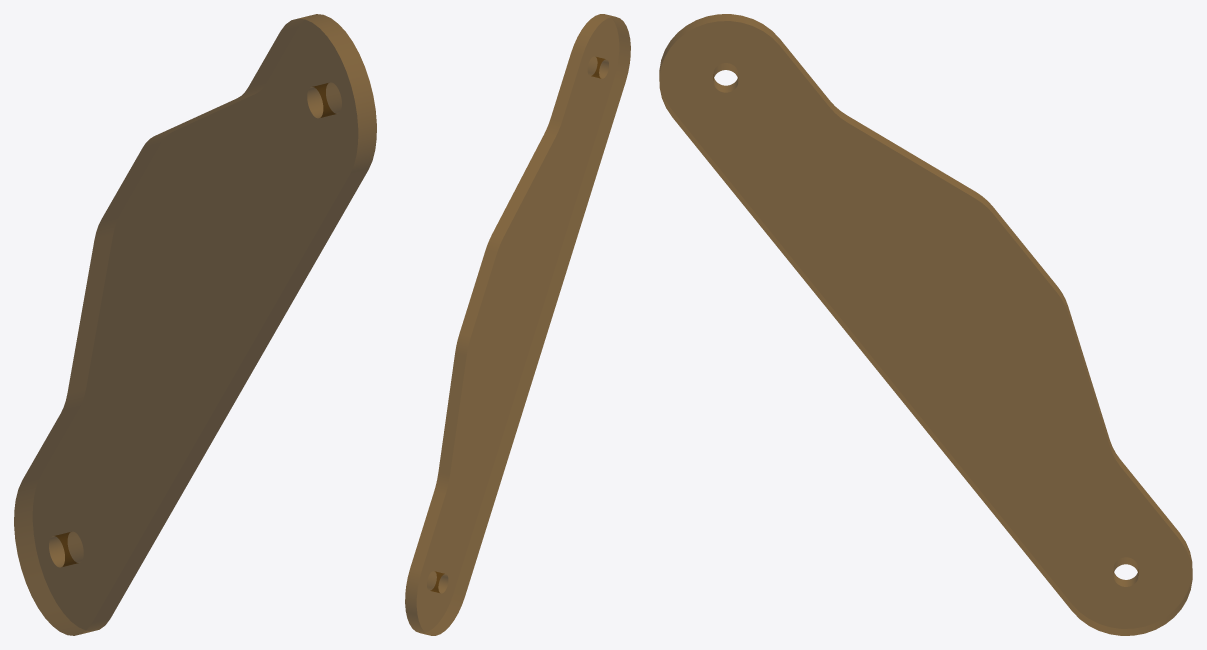
3 views of the same model, side by side, from view 1: azimuth 30°, elevation 25°; view 2: azimuth 150°, elevation 25°; view 3: azimuth 270°, elevation 25° (orthographic). The views are drawn at different scales.
Visible parts, largest first — view 1: 4barplateWbump:3; view 2: 4barplateWbump:3; view 3: 4barplateWbump:3.
Part boxes in pixels (x1,y1,x2,y2): 4barplateWbump:3: (14,14,376,635); 4barplateWbump:3: (405,14,630,635); 4barplateWbump:3: (659,14,1192,635).
Bounding box in the file's own units: 0.00635 × 0.2583 × 0.203.
